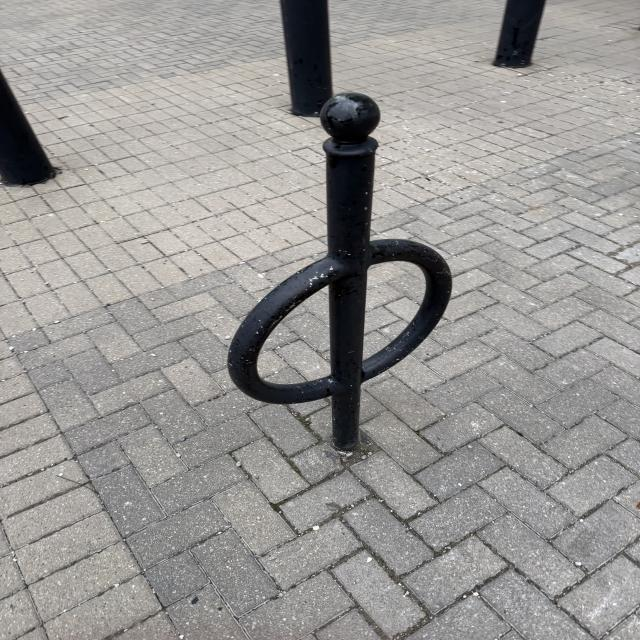Bicycle Rack: (227, 93, 455, 451)
